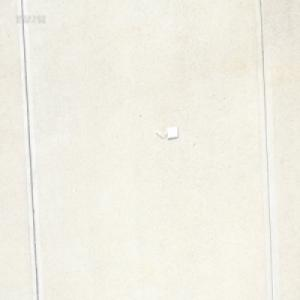LuggageTag: (154, 124, 178, 141)
